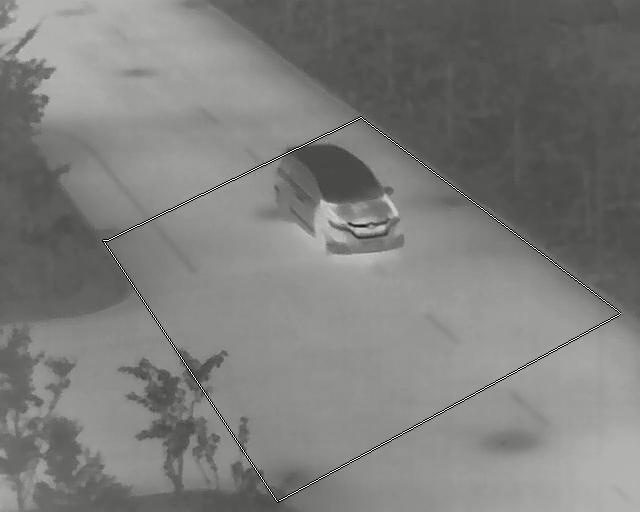vehicle: (274, 145, 405, 255)
